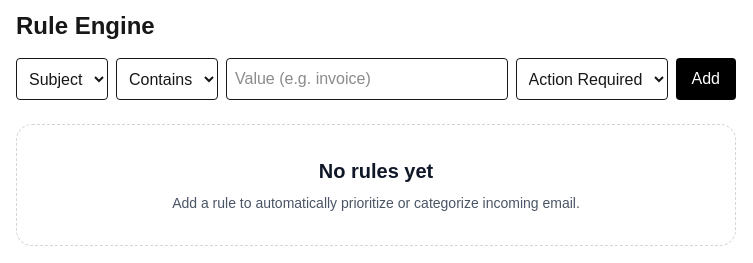
RulesPage › creates a rule and shows success feedback
The image size is (753, 263).
Type "invoice" into the field with placeholder "Value (e.g. invoice)" at (367,79), box 226,58 -> 508,100
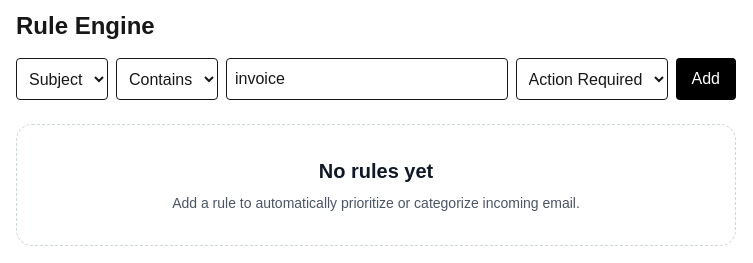
Click the button "Add" at (706,79), box 676,58 -> 736,100
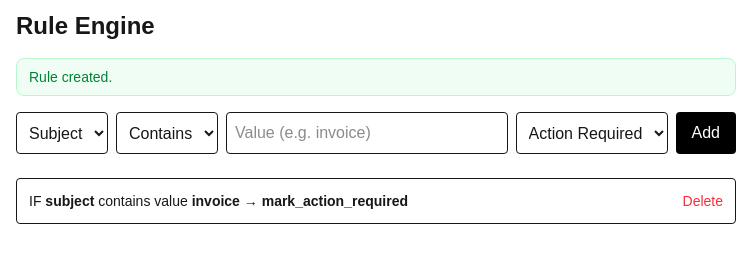
Result: the text "Rule created." is shown at 16,58 -> 736,96
